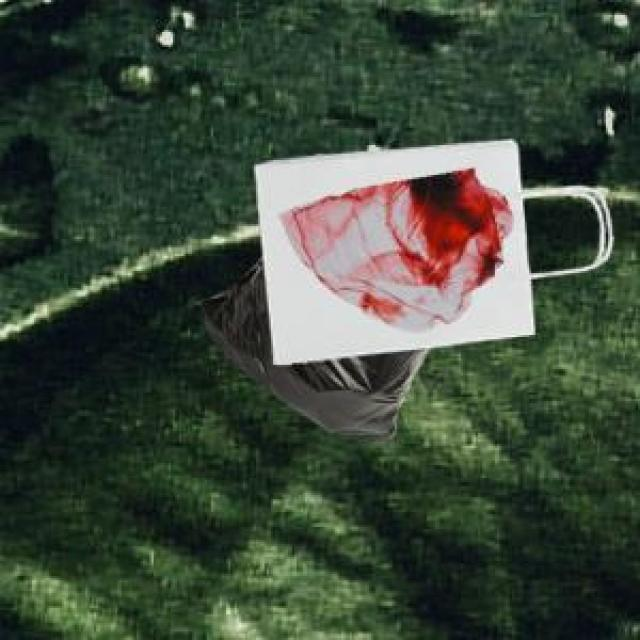miscellaneous trash: (194, 252, 425, 437)
paper: (250, 137, 608, 361)
